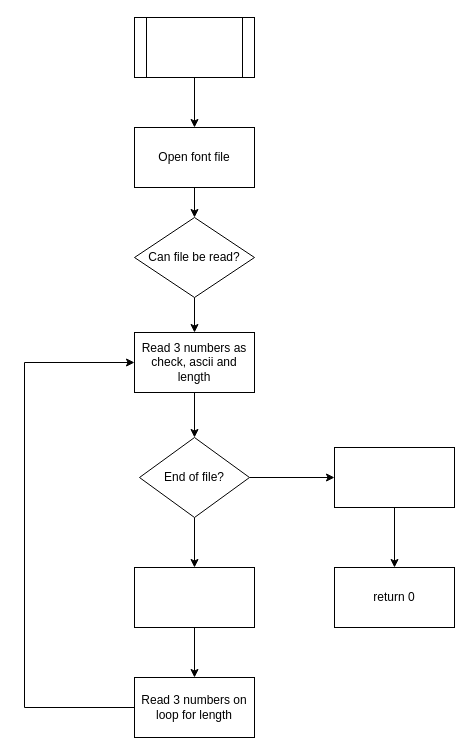
Some shapes in this 472 by 755 pixel diagram are drawn without their labels. Each missing label, with the centre of its shape:
"Close font file" goes at [394,477].
"Count++" goes at [194,597].
"F_CountLetters" goes at [194,47].
